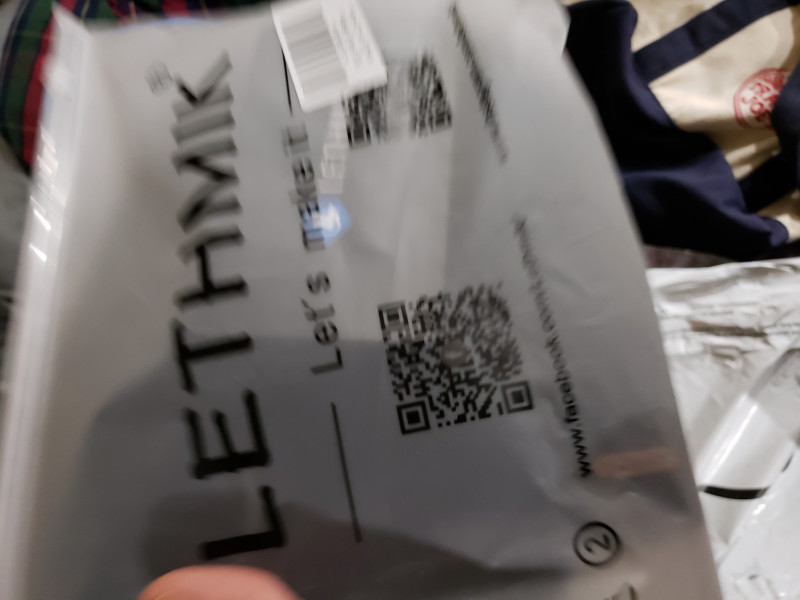QR_CODE: (361, 263, 547, 450), (329, 32, 463, 164)
